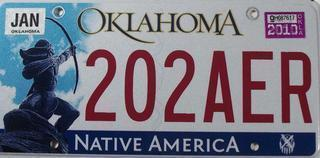placa de veiculo: (3, 3, 313, 153)
